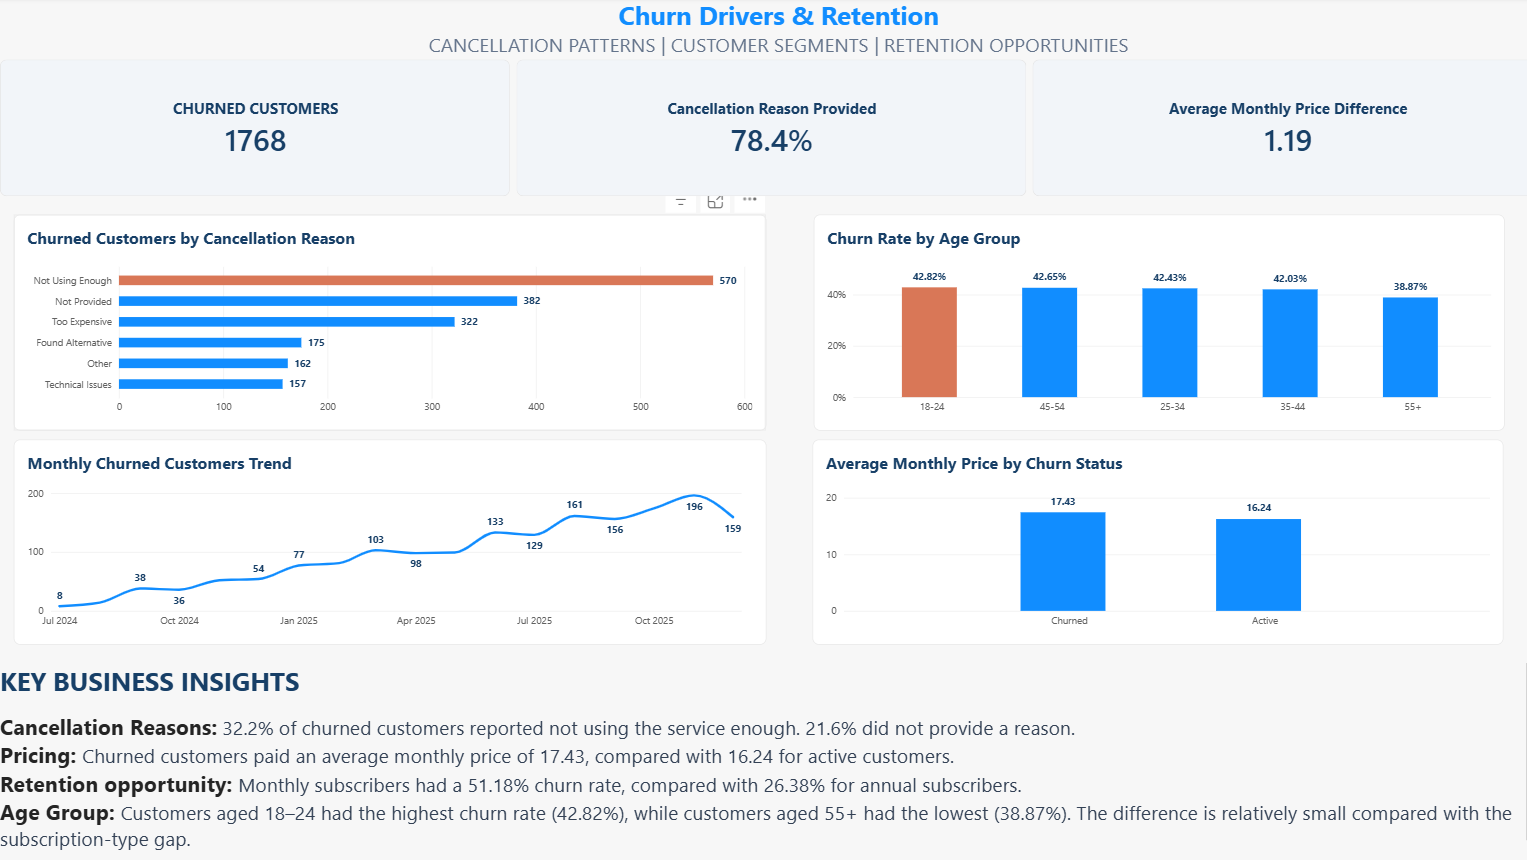

Layout of this report page (visuals, bound fields, positions):
{"tool":"powerbi","page":{"name":"Churn Drivers & Retention","canvas":[1920,1080],"ordinal":2},"visuals":[{"type":"clusteredBarChart","title":"Churned Customers by Cancellation Reason","fields":{"Category":["clean_subscriptions.cleaned_cancel_reason"],"Y":["CountNonNull(clean_subscriptions.customer_id)"]},"box":[17.1,270.5,935.8,268.9],"z":0},{"type":"clusteredColumnChart","title":"Churn Rate by Age Group","fields":{"Category":["clean_subscriptions.age_group"],"Y":["clean_subscriptions.CHURN RATE"]},"box":[1011.9,270.5,859.6,268.9],"z":1000},{"type":"clusteredColumnChart","title":"Average Monthly Price by Churn Status","fields":{"Category":["clean_subscriptions.Churn Status"],"Y":["Avg(clean_subscriptions.monthly_price)"]},"box":[1010.4,550.3,859.6,254.9],"z":2000},{"type":"lineChart","title":"Monthly Churned Customers Trend","fields":{"Category":["clean_subscriptions.churn_date.Variation.Date Hierarchy.Year","clean_subscriptions.churn_date.Variation.Date Hierarchy.Month"],"Y":["CountNonNull(clean_subscriptions.customer_id)"]},"box":[17.1,550.3,935.8,254.9],"z":3000},{"type":"cardVisual","fields":{"Data":["clean_subscriptions.CHURNED CUSTOMERS","clean_subscriptions.Reasons Provided %","clean_subscriptions.Average Price Difference"]},"box":[0,77.7,1919.7,171],"z":4000},{"type":"textbox","box":[17.1,0,1902.6,88.6],"z":5000},{"type":"textbox","box":[0,828.5,1907.3,251.8],"z":6000}]}

Visuals, with their boxes in screenshot pixels (x1, y1, x2, y2), scaled from the page's 1920x1080 canvas onto the 1527x860 screenshot:
"Churned Customers by Cancellation Reason" clusteredBarChart: (left=14, top=215, right=758, bottom=430)
"Churn Rate by Age Group" clusteredColumnChart: (left=805, top=215, right=1488, bottom=430)
"Average Monthly Price by Churn Status" clusteredColumnChart: (left=804, top=438, right=1487, bottom=641)
"Monthly Churned Customers Trend" lineChart: (left=14, top=438, right=758, bottom=641)
cardVisual - clean_subscriptions.CHURNED CUSTOMERS x clean_subscriptions.Reasons Provided %: (left=0, top=62, right=1526, bottom=198)
textbox: (left=14, top=0, right=1526, bottom=71)
textbox: (left=0, top=660, right=1517, bottom=859)
